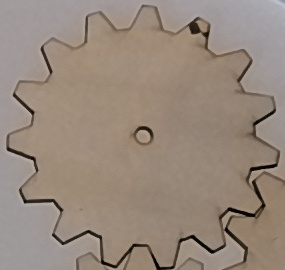Points: (187, 20, 209, 38)
